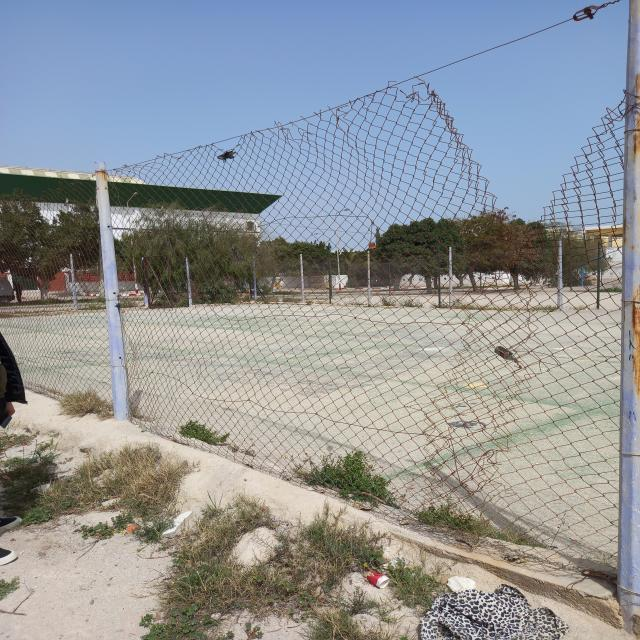fence line: (443, 11, 628, 200)
